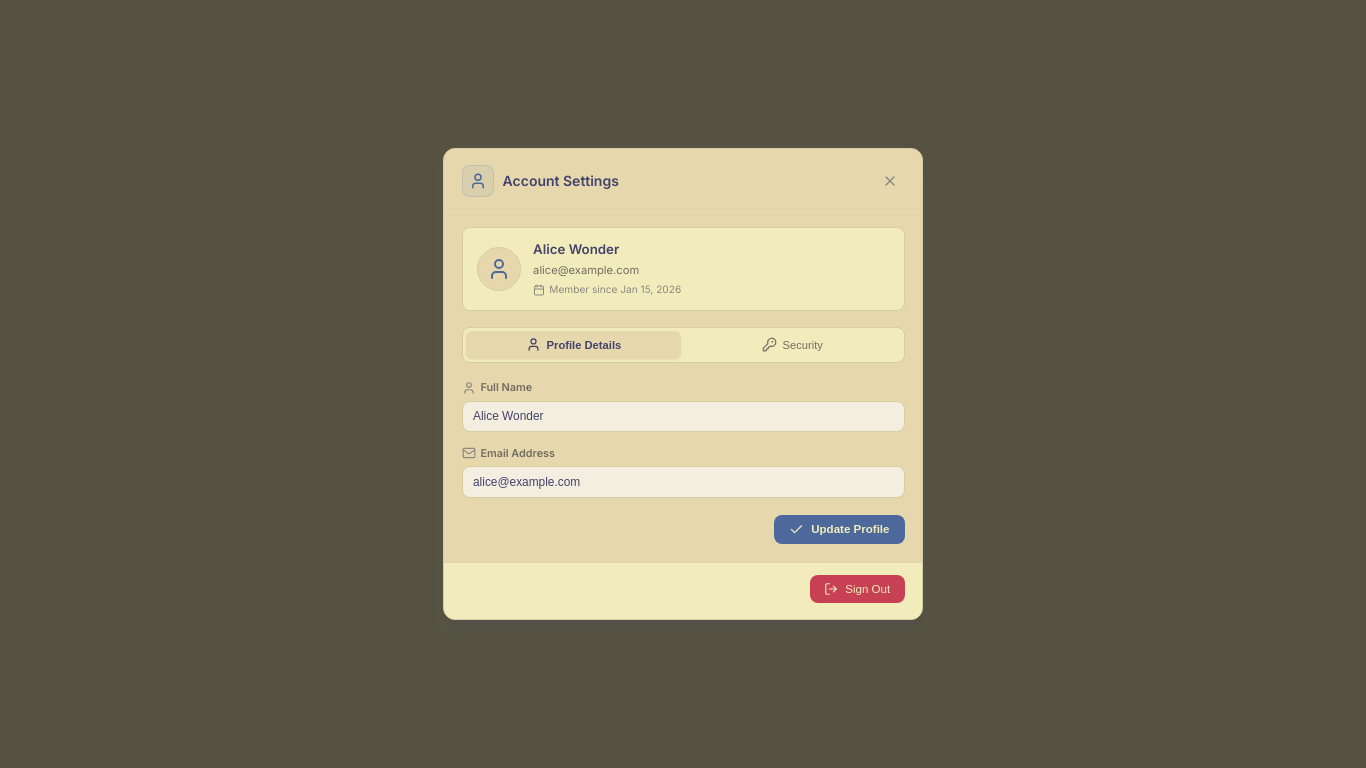
Component: ProfileModal (app/components/ProfileModal.vue) › Security / Change Password Form & Validation › validates new password length less than 8 characters
Click the tab "Security" at (792, 345), box left=685, top=331, right=900, bottom=359
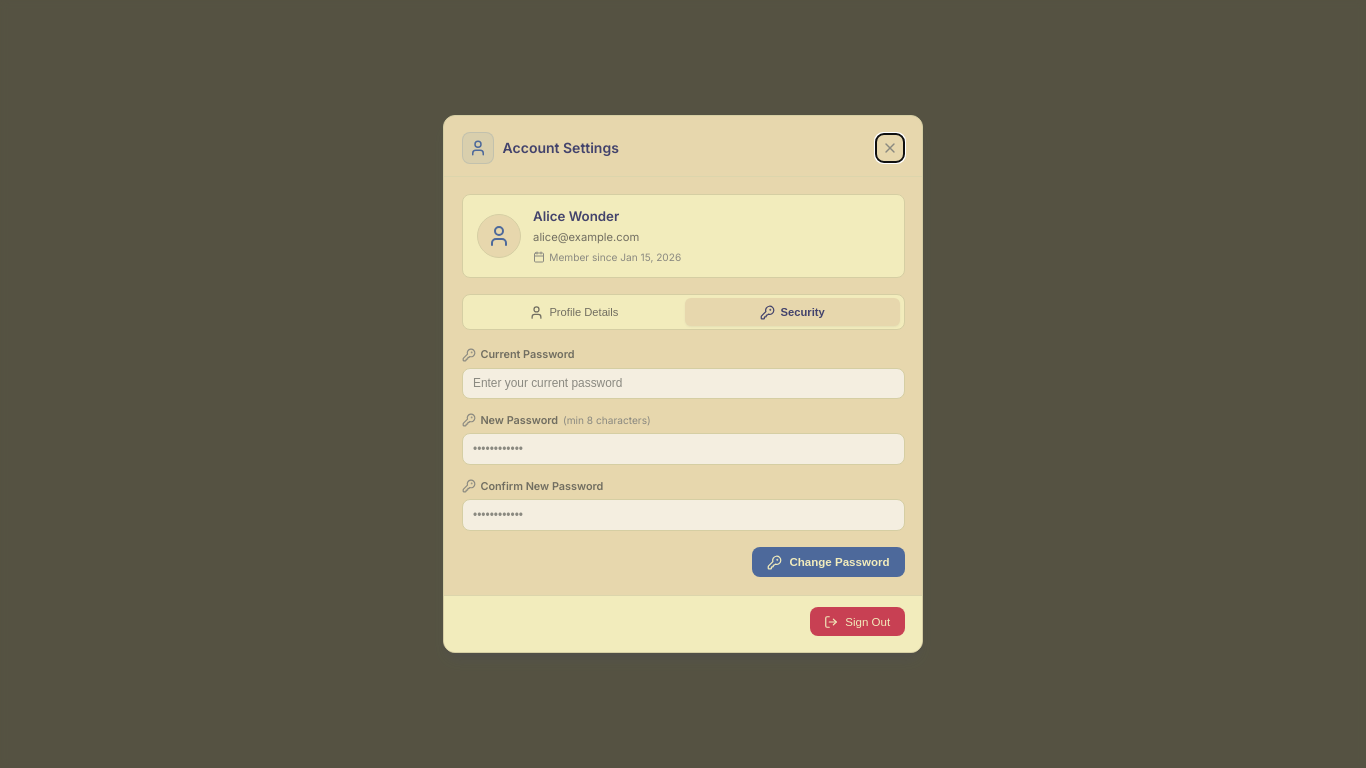
Type "oldPassword123" into the password field with id "current-password" at (683, 383), box left=462, top=368, right=904, bottom=399
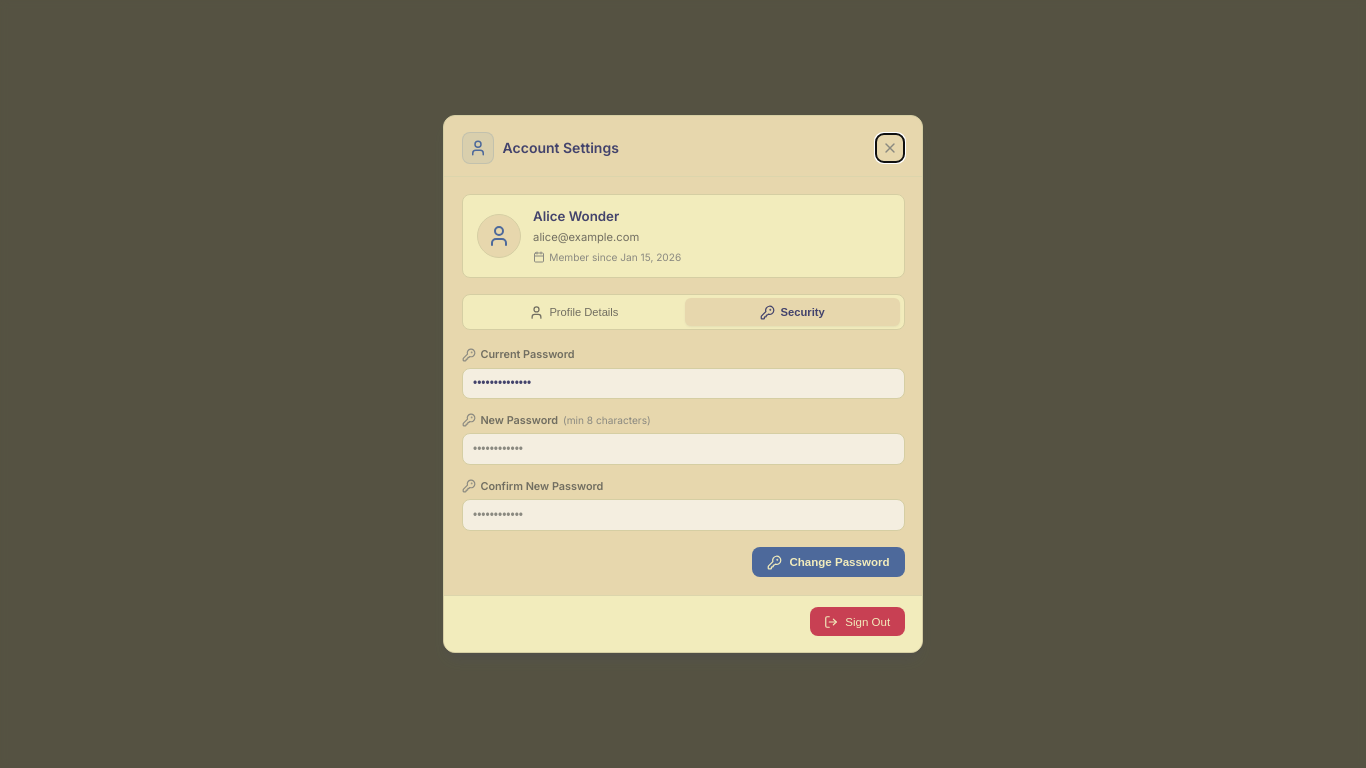
Type "short" into the password field with id "new-password" at (683, 449), box left=462, top=434, right=904, bottom=465
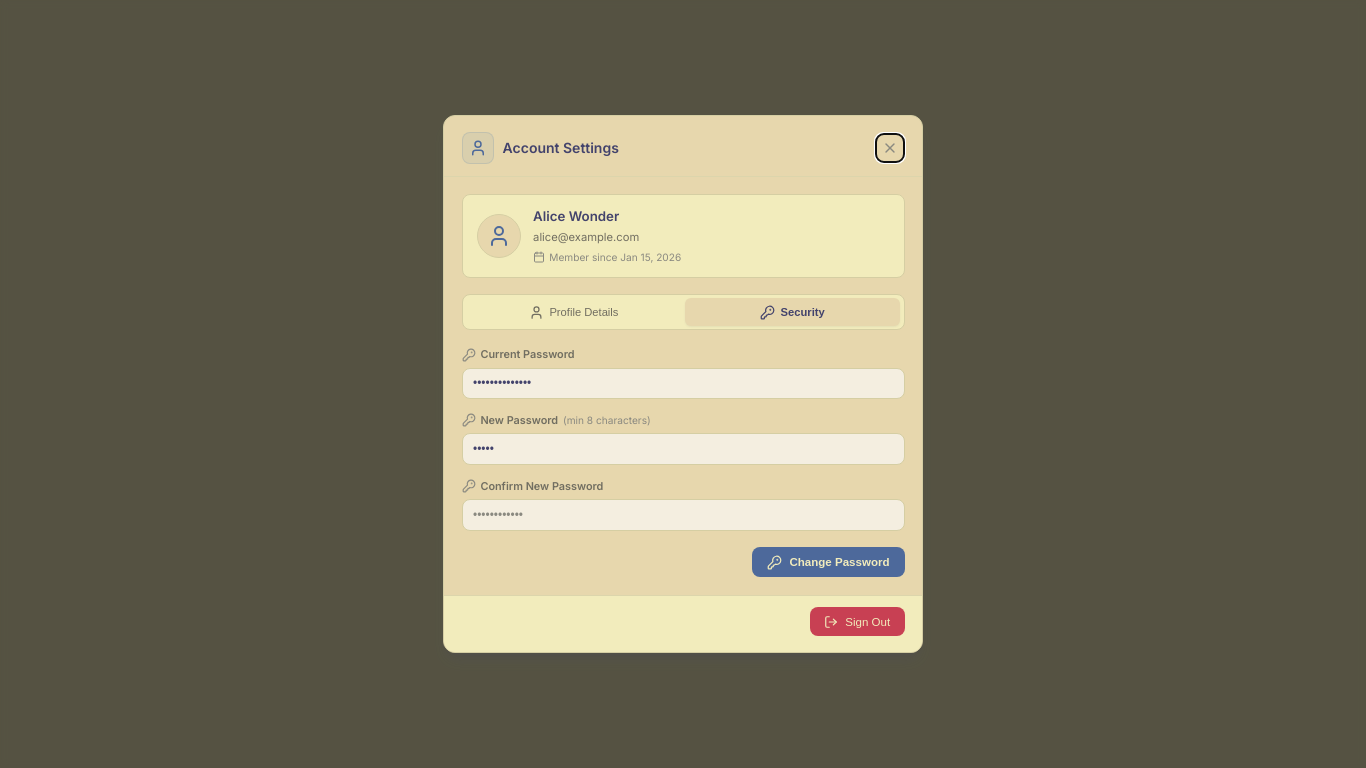
Type "short" into the password field with id "confirm-password" at (683, 515), box left=462, top=499, right=904, bottom=531
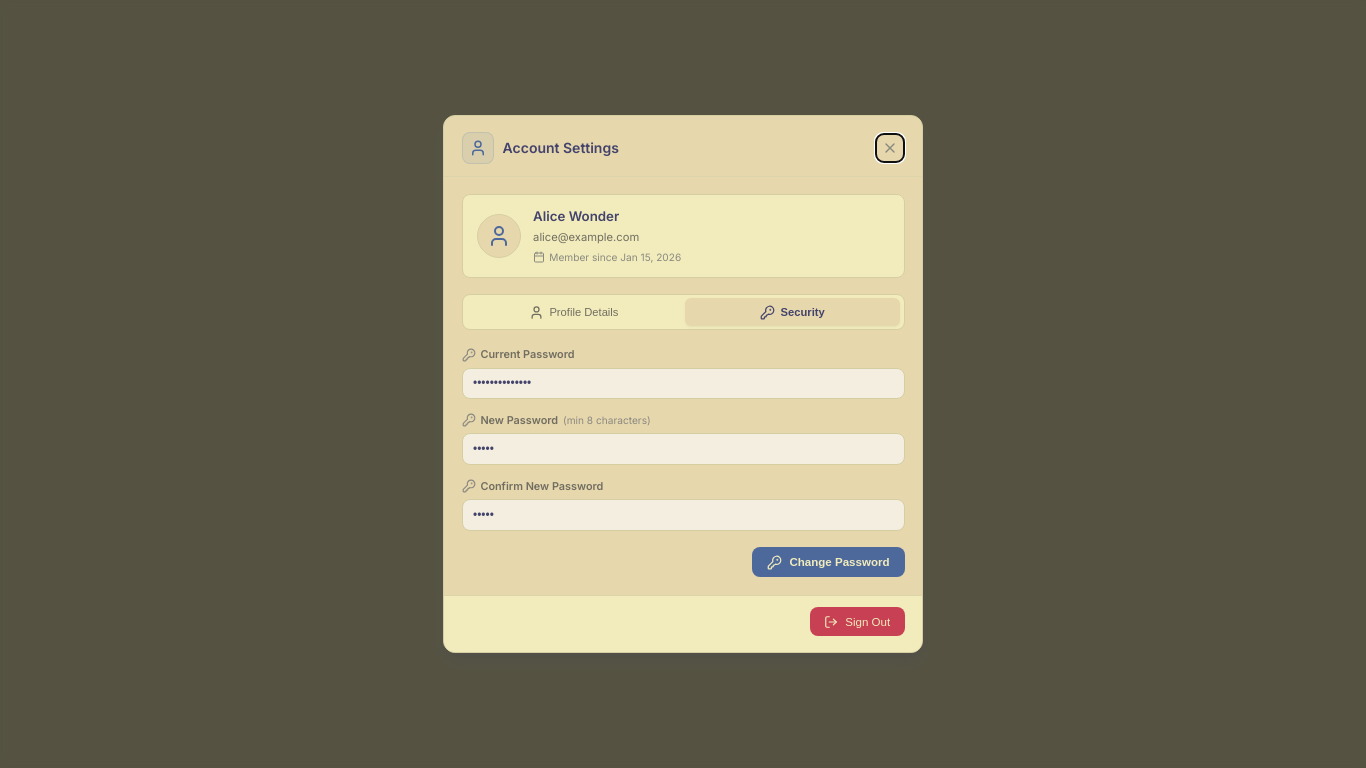
Submit the form, box left=462, top=346, right=904, bottom=577
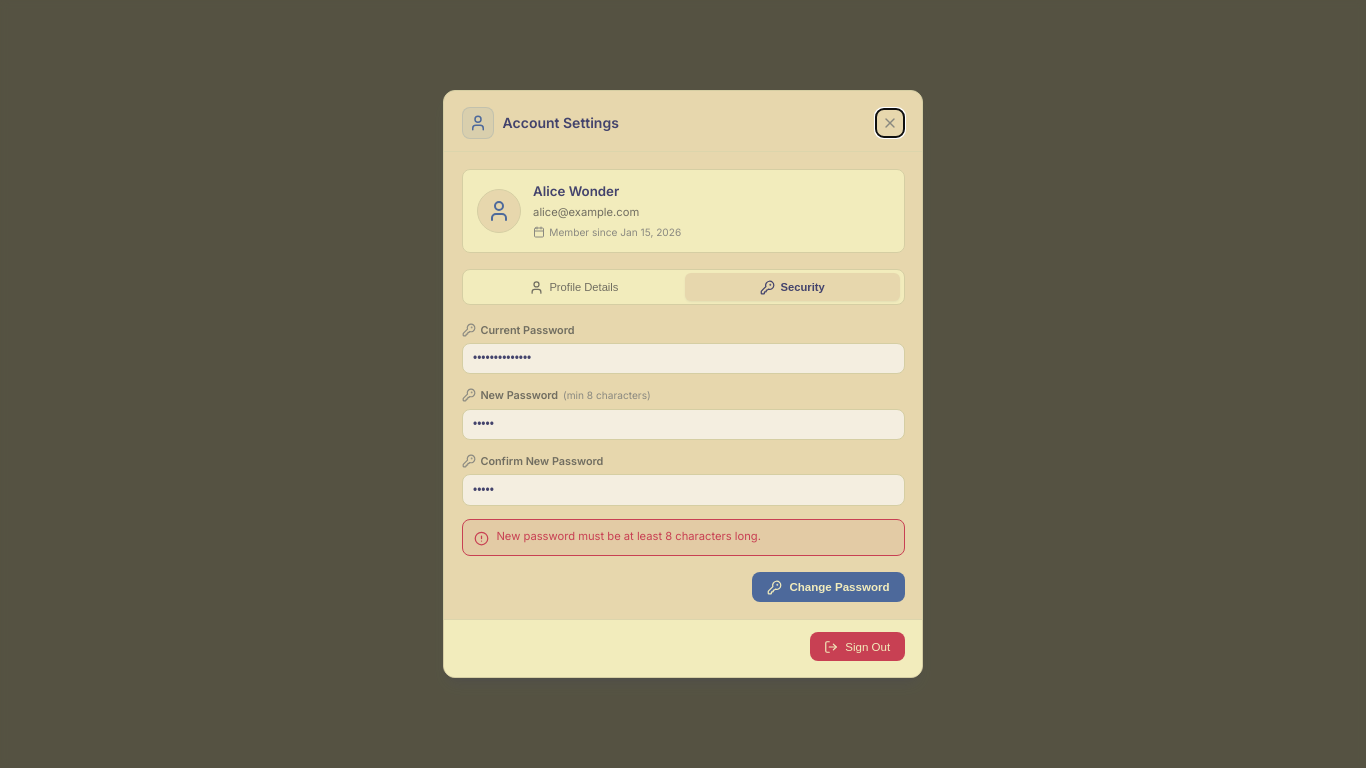
Now the message "New password must be at least 8 characters long." is shown, box left=462, top=519, right=904, bottom=556
